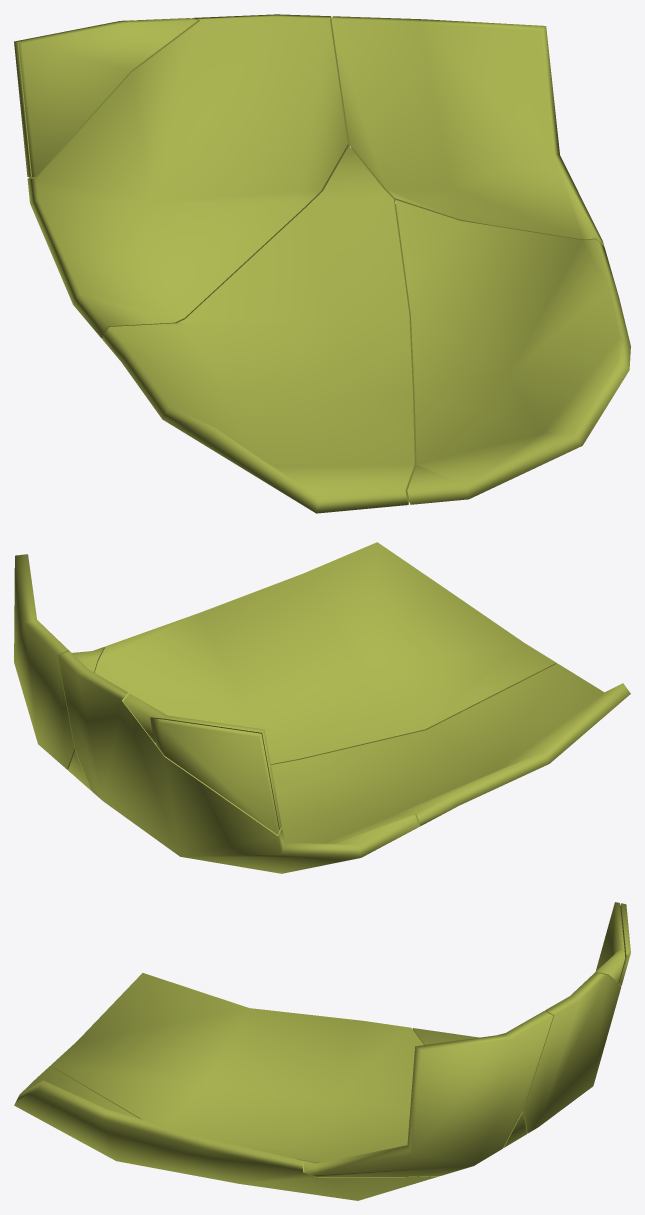
Rendered from Plaque_20.fbx.
The picture shows the model from 3 angles, top to bottom: view 1: azimuth 30°, elevation 25°; view 2: azimuth 150°, elevation 25°; view 3: azimuth 270°, elevation 25°; orthographic projection. The views are drawn at different scales.
Parts seen in each view (by area): view 1: tooth_u.048_cell.001, tooth_u.048_cell, tooth_u.048_cell.004, tooth_u.048_cell.005, tooth_u.048_cell.003, tooth_u.048_cell.002; view 2: tooth_u.048_cell.004, tooth_u.048_cell, tooth_u.048_cell.001, tooth_u.048_cell.002, tooth_u.048_cell.005, tooth_u.048_cell.003; view 3: tooth_u.048_cell, tooth_u.048_cell.005, tooth_u.048_cell.004, tooth_u.048_cell.001, tooth_u.048_cell.003, tooth_u.048_cell.002.
Part boxes in pixels (x1=…): tooth_u.048_cell.001: x1=27, y1=14, x2=349, y2=338; tooth_u.048_cell: x1=102, y1=146, x2=416, y2=513; tooth_u.048_cell.004: x1=395, y1=199, x2=630, y2=504; tooth_u.048_cell.005: x1=331, y1=16, x2=603, y2=245; tooth_u.048_cell.003: x1=18, y1=18, x2=197, y2=176; tooth_u.048_cell.002: x1=14, y1=20, x2=134, y2=176; tooth_u.048_cell.004: x1=94, y1=542, x2=556, y2=764; tooth_u.048_cell: x1=68, y1=663, x2=630, y2=873; tooth_u.048_cell.001: x1=58, y1=651, x2=419, y2=872; tooth_u.048_cell.002: x1=152, y1=718, x2=279, y2=834; tooth_u.048_cell.005: x1=14, y1=554, x2=104, y2=769; tooth_u.048_cell.003: x1=123, y1=693, x2=281, y2=829; tooth_u.048_cell: x1=50, y1=973, x2=526, y2=1162; tooth_u.048_cell.005: x1=303, y1=1011, x2=553, y2=1176; tooth_u.048_cell.004: x1=14, y1=1066, x2=439, y2=1200; tooth_u.048_cell.001: x1=412, y1=972, x2=621, y2=1133; tooth_u.048_cell.003: x1=595, y1=902, x2=625, y2=982; tooth_u.048_cell.002: x1=617, y1=903, x2=630, y2=985.
Size of the model in its own units: 81.11 by 38.99 by 105.
